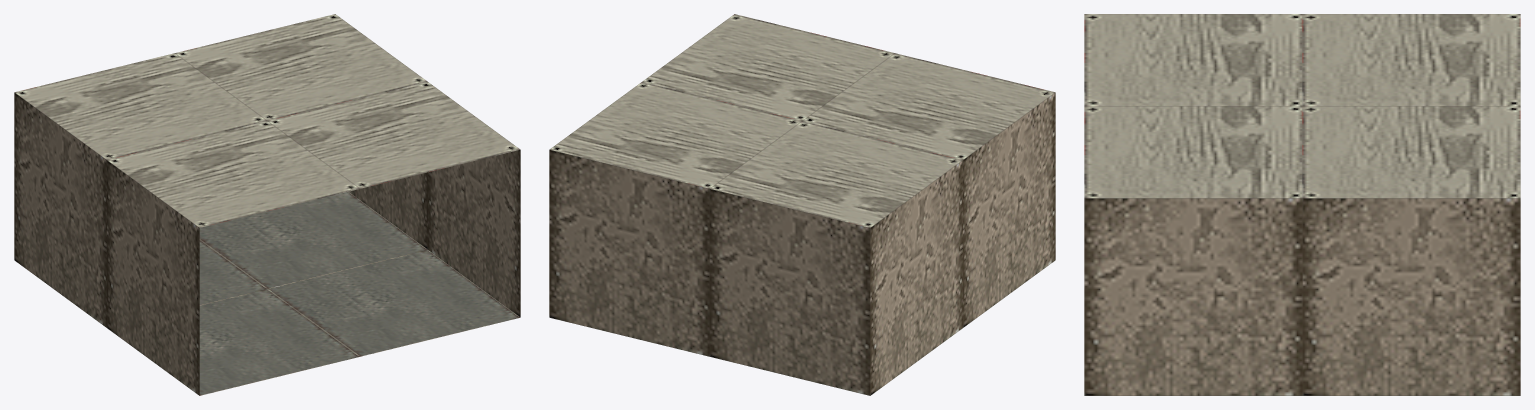
Rendered from environment.gltf.
3 views of the same model, side by side, from view 1: azimuth 30°, elevation 25°; view 2: azimuth 150°, elevation 25°; view 3: azimuth 270°, elevation 25° (orthographic). The views are drawn at different scales.
Visible parts, largest first — view 1: Wall.011, Wall.012, Ceiling.006, Ceiling.008, Ceiling.007, Floor, Ceiling, Floor.008, Wall.007, Floor.006, Wall.008, Floor.007; view 2: Wall.010, Wall.009, Wall.012, Wall.011, Ceiling.006, Ceiling.008, Ceiling, Ceiling.007; view 3: Wall.007, Wall.008, Ceiling, Ceiling.006, Ceiling.007, Ceiling.008.
Part boxes in pixels (x1=…): Wall.011: x1=14, y1=92, x2=106, y2=327; Wall.012: x1=107, y1=160, x2=199, y2=395; Ceiling.006: x1=175, y1=14, x2=427, y2=120; Ceiling.008: x1=268, y1=82, x2=519, y2=188; Ceiling.007: x1=107, y1=121, x2=359, y2=227; Floor: x1=268, y1=250, x2=519, y2=356; Ceiling: x1=15, y1=53, x2=266, y2=159; Floor.008: x1=199, y1=191, x2=427, y2=288; Wall.007: x1=428, y1=149, x2=520, y2=317; Floor.006: x1=199, y1=289, x2=359, y2=395; Wall.008: x1=349, y1=172, x2=427, y2=249; Floor.007: x1=199, y1=239, x2=266, y2=305; Wall.010: x1=709, y1=189, x2=870, y2=395; Wall.009: x1=549, y1=149, x2=709, y2=356; Wall.012: x1=963, y1=92, x2=1055, y2=327; Wall.011: x1=870, y1=160, x2=962, y2=395; Ceiling.006: x1=550, y1=82, x2=801, y2=188; Ceiling.008: x1=642, y1=14, x2=894, y2=120; Ceiling: x1=710, y1=121, x2=962, y2=227; Ceiling.007: x1=803, y1=53, x2=1054, y2=159; Wall.007: x1=1084, y1=198, x2=1302, y2=395; Wall.008: x1=1302, y1=198, x2=1520, y2=395; Ceiling: x1=1302, y1=14, x2=1520, y2=106; Ceiling.006: x1=1302, y1=106, x2=1520, y2=198; Ceiling.007: x1=1084, y1=14, x2=1302, y2=106; Ceiling.008: x1=1084, y1=106, x2=1302, y2=198.
Bounding box in the file's own units: 4 × 2 × 4.
Materials: 1 (1 with a texture image).
